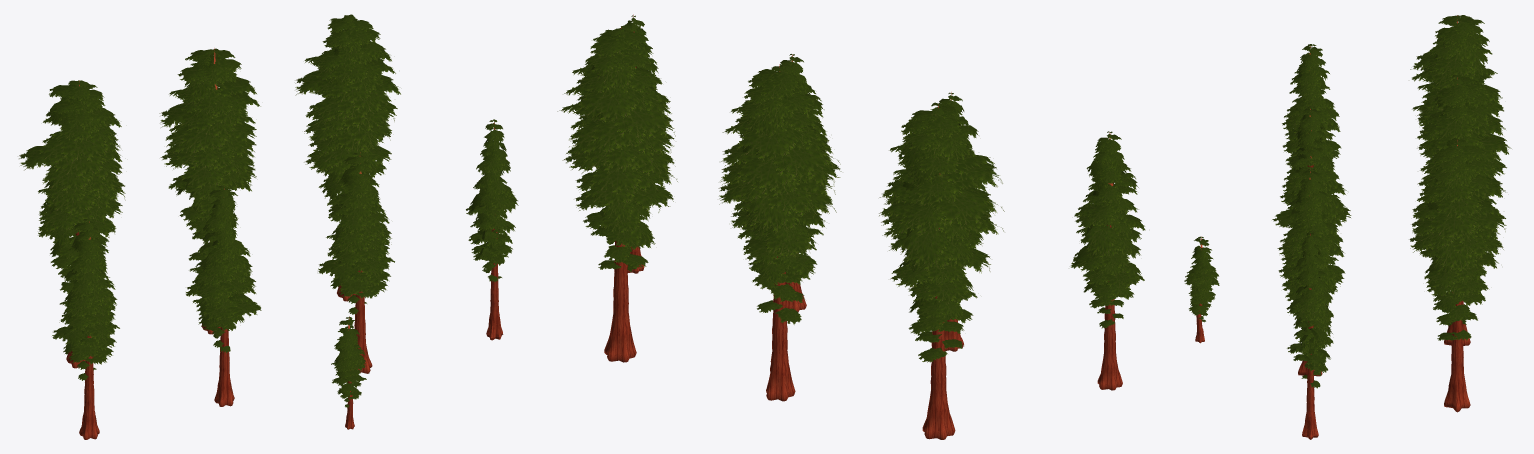
The picture shows the model from 3 angles, left to right: view 1: azimuth 30°, elevation 25°; view 2: azimuth 150°, elevation 25°; view 3: azimuth 270°, elevation 25°; orthographic projection. The views are drawn at different scales.
Visible parts, largest first — view 1: TreePackDisplayScene_TreeBig002:TreeBranch_0, TreePackDisplayScene_TreeBig001:TreeBranch_0, TreePackDisplayScene_TreeBig003:TreeBranch_0, TreePackDisplayScene_TreeMedium003:TreeBranch_0, TreePackDisplayScene_TreeMedium002:TreeBranch_0, TreePackDisplayScene_TreeMedium001:TreeBranch_0, TreePackDisplayScene_TreeMedium004:TreeBranch_0, TreePackDisplayScene_TreeSmall001:TreeBranch_0, TreePackDisplayScene_TreeMedium001:Wood_0, TreePackDisplayScene_TreeMedium002:Wood_0, TreePackDisplayScene_TreeMedium004:Wood_0, TreePackDisplayScene_TreeMedium003:Wood_0; view 2: TreePackDisplayScene_TreeBig002:TreeBranch_0, TreePackDisplayScene_TreeBig003:TreeBranch_0, TreePackDisplayScene_TreeBig001:TreeBranch_0, TreePackDisplayScene_TreeMedium001:TreeBranch_0, TreePackDisplayScene_TreeBig001:Wood_0, TreePackDisplayScene_TreeBig003:Wood_0, TreePackDisplayScene_TreeBig002:Wood_0, TreePackDisplayScene_TreeMedium001:Wood_0, TreePackDisplayScene_TreeMedium003:TreeBranch_0, TreePackDisplayScene_TreeMedium002:TreeBranch_0; view 3: TreePackDisplayScene_TreeBig001:TreeBranch_0, TreePackDisplayScene_TreeBig003:TreeBranch_0, TreePackDisplayScene_TreeBig002:TreeBranch_0, TreePackDisplayScene_TreeMedium003:TreeBranch_0, TreePackDisplayScene_TreeMedium004:TreeBranch_0, TreePackDisplayScene_TreeMedium002:TreeBranch_0, TreePackDisplayScene_TreeMedium001:TreeBranch_0, TreePackDisplayScene_TreeSmall001:TreeBranch_0, TreePackDisplayScene_TreeBig001:Wood_0, TreePackDisplayScene_TreeMedium004:Wood_0.
Part boxes in pixels (left/top/right/bottom): TreePackDisplayScene_TreeBig002:TreeBranch_0: left=159, top=48, right=260, bottom=260; TreePackDisplayScene_TreeBig001:TreeBranch_0: left=295, top=14, right=400, bottom=221; TreePackDisplayScene_TreeBig003:TreeBranch_0: left=19, top=80, right=125, bottom=293; TreePackDisplayScene_TreeMedium003:TreeBranch_0: left=318, top=152, right=394, bottom=314; TreePackDisplayScene_TreeMedium002:TreeBranch_0: left=186, top=185, right=261, bottom=353; TreePackDisplayScene_TreeMedium001:TreeBranch_0: left=52, top=218, right=119, bottom=380; TreePackDisplayScene_TreeMedium004:TreeBranch_0: left=466, top=119, right=518, bottom=282; TreePackDisplayScene_TreeSmall001:TreeBranch_0: left=331, top=317, right=366, bottom=407; TreePackDisplayScene_TreeMedium001:Wood_0: left=79, top=221, right=99, bottom=439; TreePackDisplayScene_TreeMedium002:Wood_0: left=214, top=188, right=234, bottom=406; TreePackDisplayScene_TreeMedium004:Wood_0: left=486, top=122, right=503, bottom=340; TreePackDisplayScene_TreeMedium003:Wood_0: left=354, top=152, right=372, bottom=373; TreePackDisplayScene_TreeBig002:TreeBranch_0: left=718, top=65, right=841, bottom=324; TreePackDisplayScene_TreeBig003:TreeBranch_0: left=879, top=102, right=1004, bottom=362; TreePackDisplayScene_TreeBig001:TreeBranch_0: left=557, top=25, right=677, bottom=271; TreePackDisplayScene_TreeMedium001:TreeBranch_0: left=1071, top=131, right=1145, bottom=328; TreePackDisplayScene_TreeBig001:Wood_0: left=604, top=27, right=636, bottom=362; TreePackDisplayScene_TreeBig003:Wood_0: left=922, top=104, right=955, bottom=439; TreePackDisplayScene_TreeBig002:Wood_0: left=766, top=64, right=795, bottom=401; TreePackDisplayScene_TreeMedium001:Wood_0: left=1097, top=133, right=1122, bottom=390; TreePackDisplayScene_TreeMedium003:TreeBranch_0: left=778, top=54, right=832, bottom=226; TreePackDisplayScene_TreeMedium002:TreeBranch_0: left=937, top=92, right=988, bottom=266; TreePackDisplayScene_TreeBig001:TreeBranch_0: left=1409, top=138, right=1506, bottom=340; TreePackDisplayScene_TreeBig003:TreeBranch_0: left=1410, top=15, right=1503, bottom=158; TreePackDisplayScene_TreeBig002:TreeBranch_0: left=1417, top=74, right=1511, bottom=204; TreePackDisplayScene_TreeMedium003:TreeBranch_0: left=1277, top=168, right=1345, bottom=307; TreePackDisplayScene_TreeMedium004:TreeBranch_0: left=1286, top=231, right=1333, bottom=388; TreePackDisplayScene_TreeMedium002:TreeBranch_0: left=1272, top=106, right=1351, bottom=227; TreePackDisplayScene_TreeMedium001:TreeBranch_0: left=1282, top=44, right=1341, bottom=174; TreePackDisplayScene_TreeSmall001:TreeBranch_0: left=1184, top=236, right=1219, bottom=322; TreePackDisplayScene_TreeBig001:Wood_0: left=1444, top=140, right=1470, bottom=412; TreePackDisplayScene_TreeMedium004:Wood_0: left=1302, top=233, right=1318, bottom=439.
Size of the model in its own units: 6896 by 4002 by 4584.
Materials: 16 (16 with a texture image).
